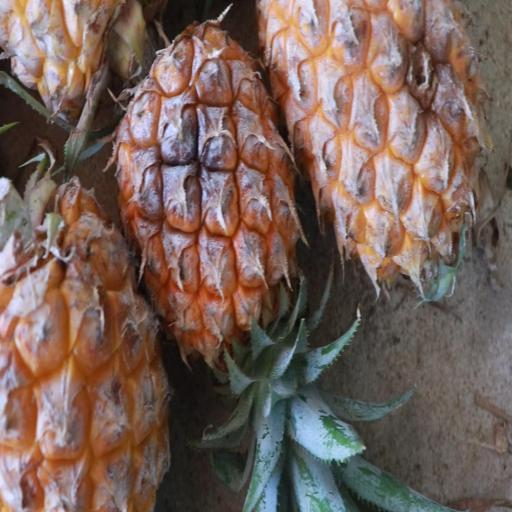Pineapple - v8 v1: (114, 18, 303, 432), (253, 0, 493, 298), (0, 170, 164, 512)
